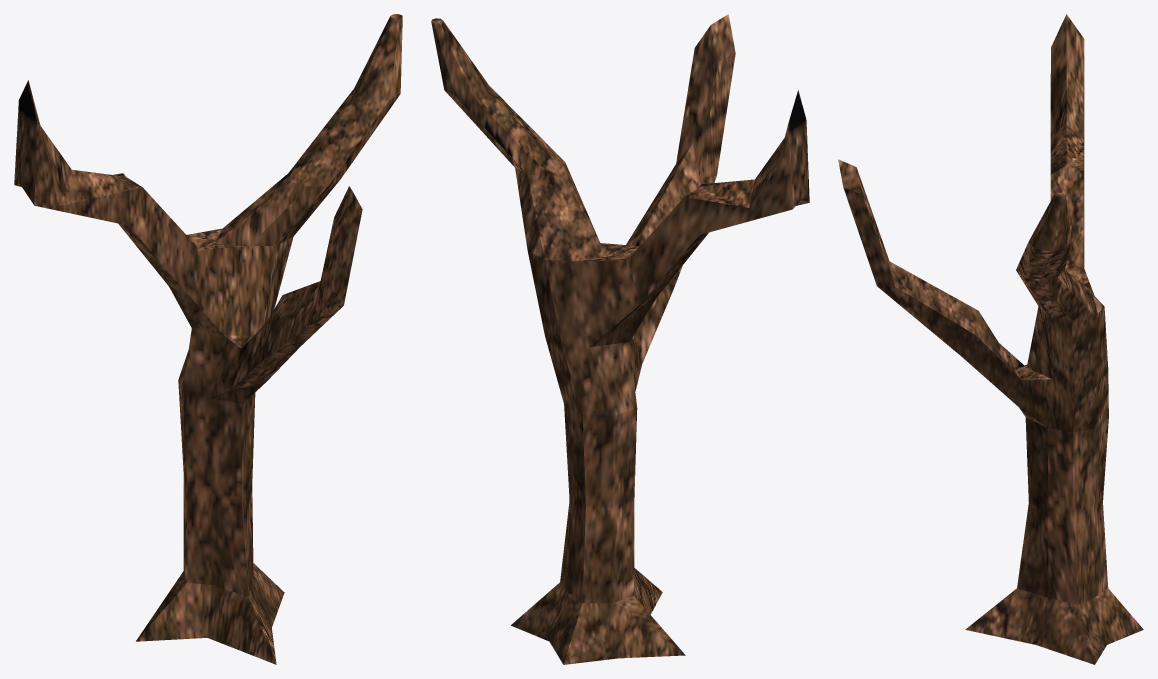
Rendered from tree_big.fbx.
The picture shows the model from 3 angles, left to right: view 1: azimuth 30°, elevation 25°; view 2: azimuth 150°, elevation 25°; view 3: azimuth 270°, elevation 25°; orthographic projection. The views are drawn at different scales.
Visible parts, largest first — view 1: Cylinder; view 2: Cylinder; view 3: Cylinder.
Part boxes in pixels (x1,y1,x2,y2): Cylinder: [14, 14, 402, 664]; Cylinder: [431, 14, 809, 664]; Cylinder: [838, 14, 1143, 664].
Size of the model in its own units: 233 by 348 by 181.
